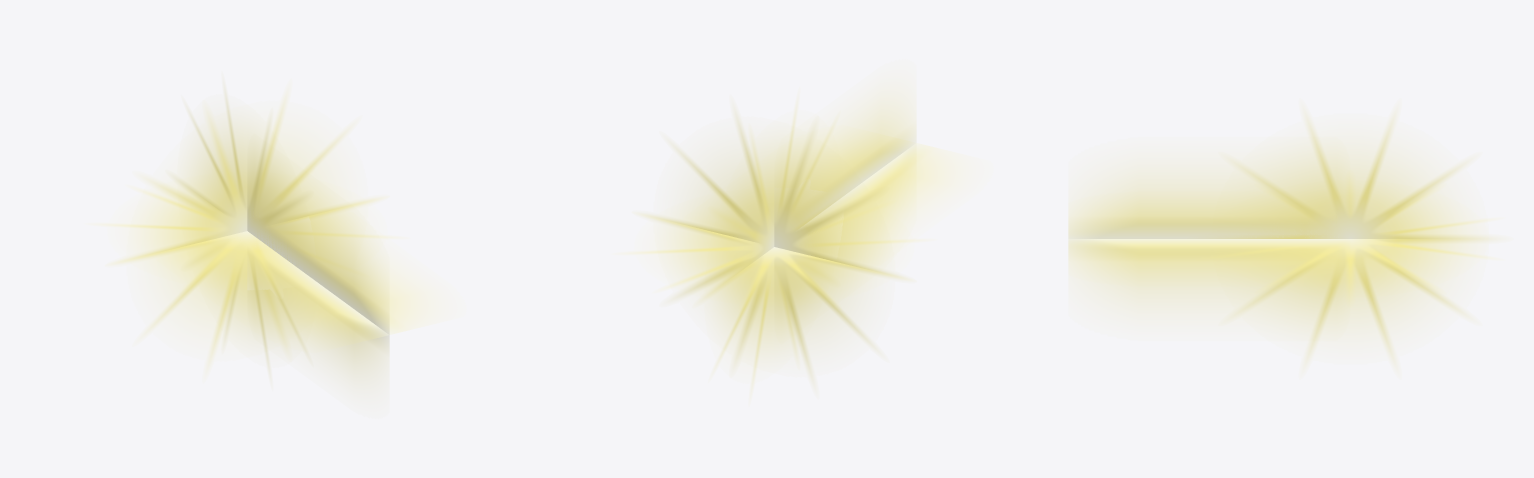
The model's file is fx_beam_t3.glb.
3 views of the same model, side by side, from view 1: azimuth 30°, elevation 25°; view 2: azimuth 150°, elevation 25°; view 3: azimuth 270°, elevation 25° (orthographic).
Visible parts, largest first — view 1: fx_beam_star, fx_beam; view 2: fx_beam_star, fx_beam; view 3: fx_beam, fx_beam_star.
Part boxes in pixels (left/top/right/bottom): fx_beam_star: left=103, top=90, right=391, bottom=371; fx_beam: left=197, top=164, right=426, bottom=381; fx_beam_star: left=630, top=106, right=918, bottom=387; fx_beam: left=779, top=96, right=953, bottom=260; fx_beam: left=1068, top=167, right=1350, bottom=310; fx_beam_star: left=1206, top=114, right=1493, bottom=363.
Bounding box in the file's own units: 1.2 × 1.2 × 1.6.
2 materials, 2 textured.
